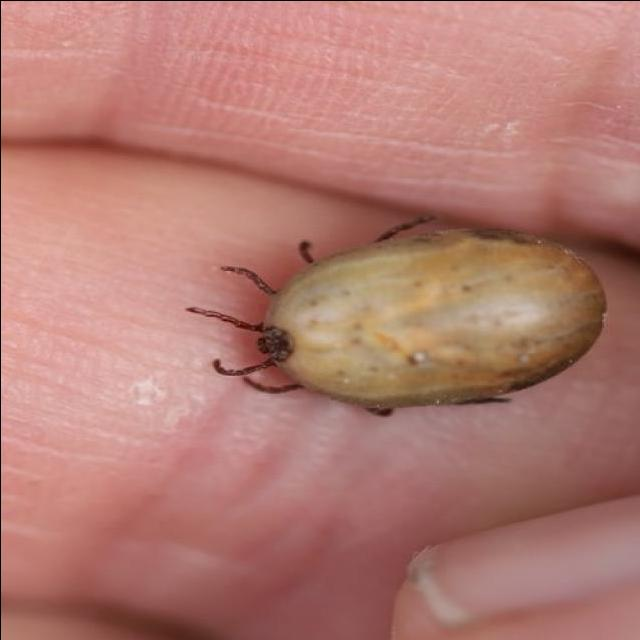Dermacentor Reticulatus-F-Fed: (184, 215, 606, 416)
